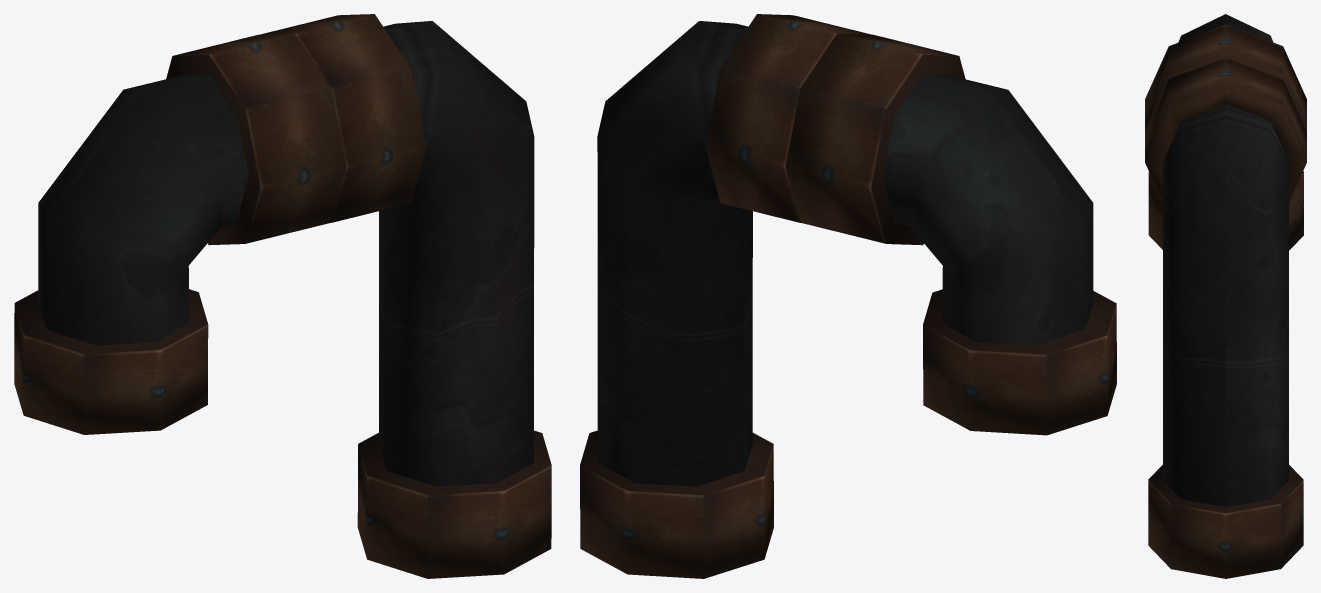
Rendered from sewer_pipe008.FBX.
3 renders of one model, left to right at view 1: azimuth 30°, elevation 25°; view 2: azimuth 150°, elevation 25°; view 3: azimuth 270°, elevation 25°, orthographic. The views are drawn at different scales.
Parts seen in each view (by area): view 1: sewer_pipe008; view 2: sewer_pipe008; view 3: sewer_pipe008.
Boxes of the visible parts, x1=… form: sewer_pipe008: x1=14, y1=14, x2=551, y2=578; sewer_pipe008: x1=580, y1=14, x2=1116, y2=578; sewer_pipe008: x1=1145, y1=14, x2=1306, y2=578.
Size of the model in its own units: 322 by 323 by 111.
